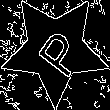P_NW: (25, 19, 85, 79)
